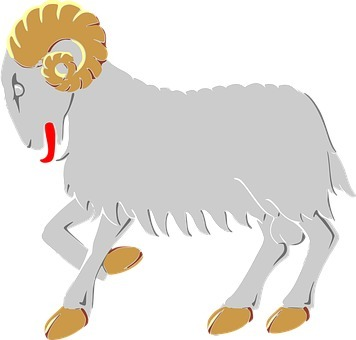sheep: (1, 3, 351, 340)
